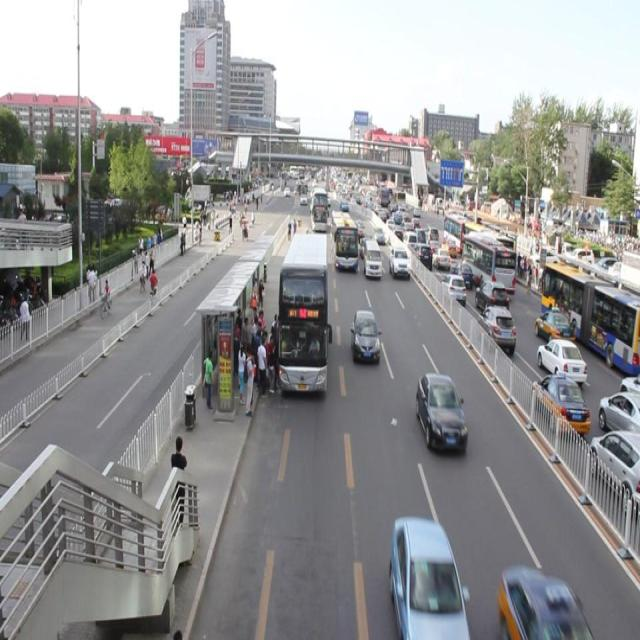car: (388, 516, 464, 632), (498, 569, 591, 640), (416, 372, 466, 452), (350, 309, 379, 363), (388, 245, 409, 276), (359, 237, 370, 257), (372, 227, 384, 244), (353, 219, 363, 235), (337, 198, 348, 212), (298, 192, 307, 206)
truck: (365, 242, 380, 277)
van: (279, 233, 326, 393), (330, 210, 357, 268), (310, 187, 327, 229)
